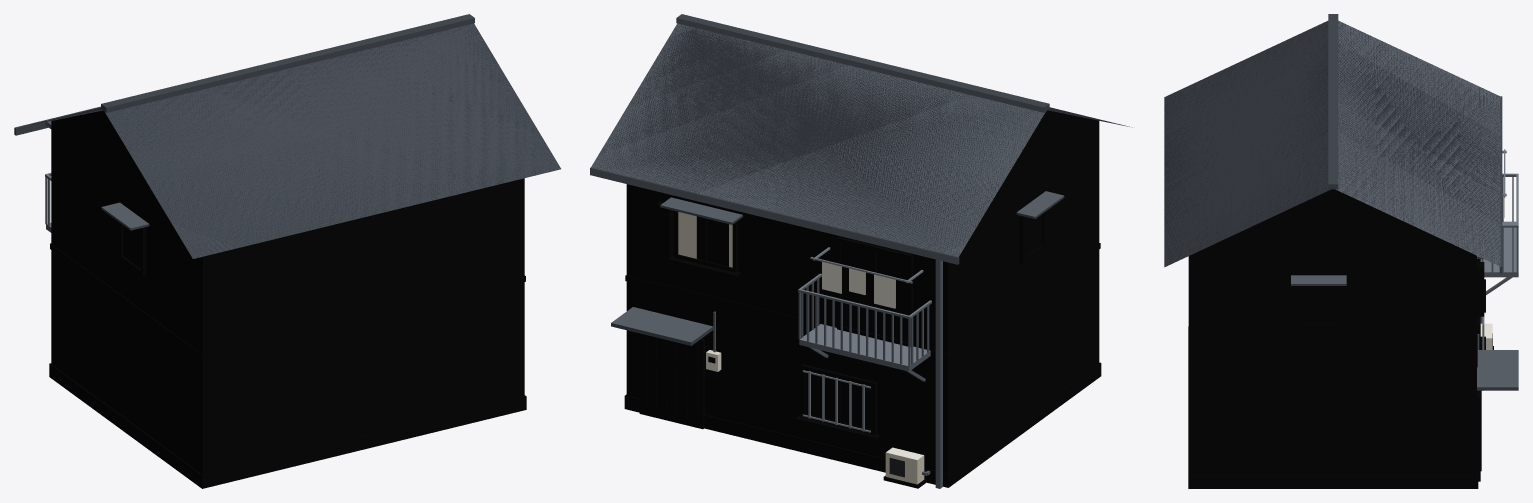
The model's file is House_C2.fbx.
The picture shows the model from 3 angles, left to right: view 1: azimuth 30°, elevation 25°; view 2: azimuth 150°, elevation 25°; view 3: azimuth 270°, elevation 25°; orthographic projection. The views are drawn at different scales.
Parts seen in each view (by area): view 1: Body.013, Roof.008, Footing.006, Belt.006, Gables.008, Hoods.014, Glass.017, WinFrame.017; view 2: Body.013, Roof.008, Glass.017, Balcony.003, Footing.006, WinFrame.017, Gables.008, Belt.006, Hood.006, Pipes.017, Door.006, Curtain1.012 (+8 smaller); view 3: Body.013, Roof.008, Gables.008, Footing.006, Belt.006, Hood.006, Balcony.003, Glass.017, WinFrame.017, Hoods.014, Shutterbox.006.
Part boxes in pixels (x1,y1,x2,y2): Body.013: [51, 121, 524, 474]; Roof.008: [14, 14, 560, 258]; Footing.006: [49, 363, 526, 488]; Belt.006: [50, 243, 525, 360]; Gables.008: [52, 110, 154, 195]; Hoods.014: [101, 202, 149, 230]; Glass.017: [123, 225, 140, 268]; WinFrame.017: [119, 222, 146, 275]; Body.013: [626, 120, 1099, 473]; Roof.008: [590, 14, 1132, 264]; Glass.017: [643, 214, 1042, 423]; Balcony.003: [798, 273, 931, 381]; Footing.006: [624, 362, 1101, 487]; WinFrame.017: [668, 211, 1046, 439]; Gables.008: [995, 110, 1097, 195]; Belt.006: [625, 243, 1100, 359]; Hood.006: [611, 307, 713, 345]; Pipes.017: [713, 244, 942, 488]; Door.006: [639, 333, 704, 429]; Curtain1.012: [841, 242, 907, 342]; Body.013: [1189, 245, 1476, 475]; Roof.008: [1164, 14, 1502, 273]; Gables.008: [1213, 189, 1453, 244]; Footing.006: [1188, 326, 1478, 488]; Belt.006: [1188, 256, 1477, 367]; Hood.006: [1477, 350, 1518, 390]; Balcony.003: [1480, 173, 1518, 294]; Glass.017: [1300, 286, 1480, 464]; WinFrame.017: [1296, 259, 1485, 349]; Hoods.014: [1291, 256, 1483, 285]; Shutterbox.006: [1477, 262, 1484, 316].
Bounding box in the file's own units: 8.7 × 7.5 × 7.66.
